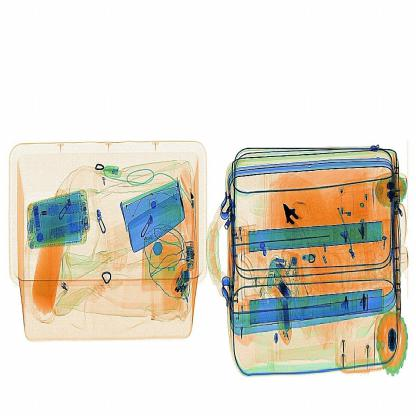gun: (275, 193, 319, 252)
